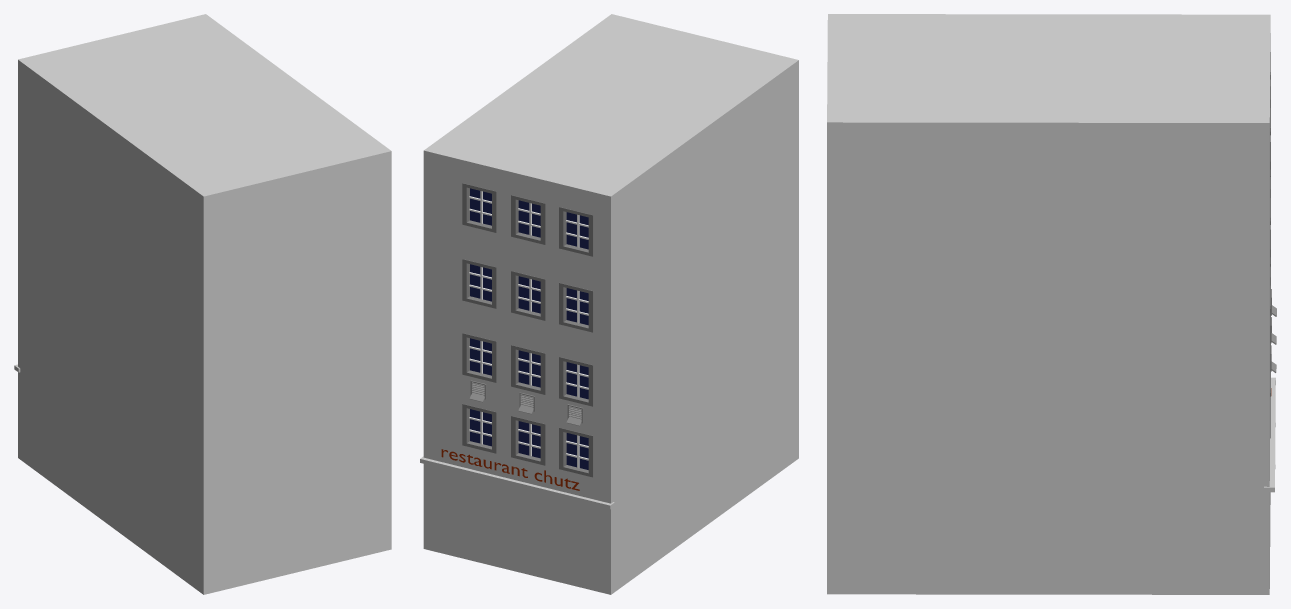
The model's file is RestaurantChutz.fbx.
The picture shows the model from 3 angles, left to right: view 1: azimuth 30°, elevation 25°; view 2: azimuth 150°, elevation 25°; view 3: azimuth 270°, elevation 25°; orthographic projection. The views are drawn at different scales.
Visible parts, largest first — view 1: Cube.8828; view 2: Cube.8828, Cube.8827, Cube.8852, Cube.8855, Cube.8864, Cube.8837, Cube.8843, Cube.8834, Cube.8861, Cube.8846, Cube.8840, Cube.8831 (+15 smaller); view 3: Cube.8828, Cube.8827.
Boxes of the visible parts, left/top/right/bottom form: Cube.8828: left=18, top=14, right=391, bottom=594; Cube.8828: left=423, top=14, right=798, bottom=594; Cube.8827: left=420, top=456, right=614, bottom=509; Cube.8852: left=511, top=195, right=545, bottom=244; Cube.8855: left=559, top=207, right=593, bottom=256; Cube.8864: left=559, top=427, right=593, bottom=477; Cube.8837: left=559, top=357, right=593, bottom=406; Cube.8843: left=511, top=271, right=545, bottom=320; Cube.8834: left=511, top=345, right=545, bottom=394; Cube.8861: left=511, top=416, right=545, bottom=465; Cube.8846: left=559, top=282, right=593, bottom=332; Cube.8840: left=462, top=259, right=496, bottom=308; Cube.8831: left=462, top=333, right=496, bottom=382; Cube.8828: left=827, top=14, right=1270, bottom=594; Cube.8827: left=1264, top=377, right=1275, bottom=492.
Bounding box in the file's own units: 776 × 1549 × 1339.
